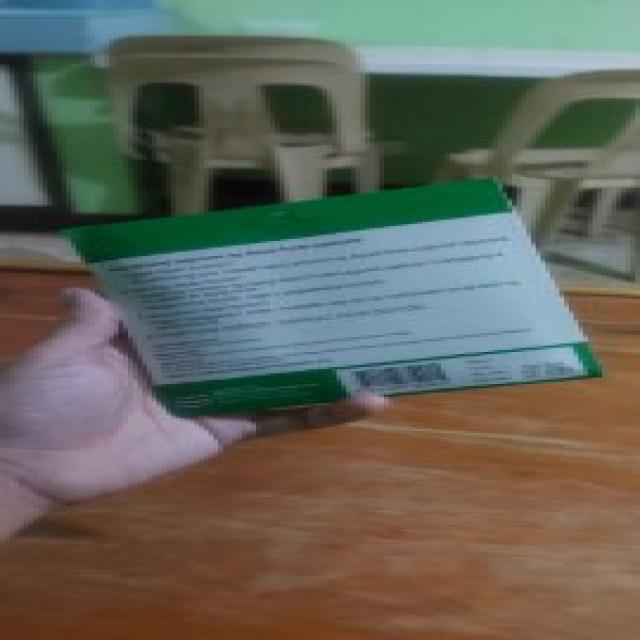Cacat: (64, 178, 607, 416)
